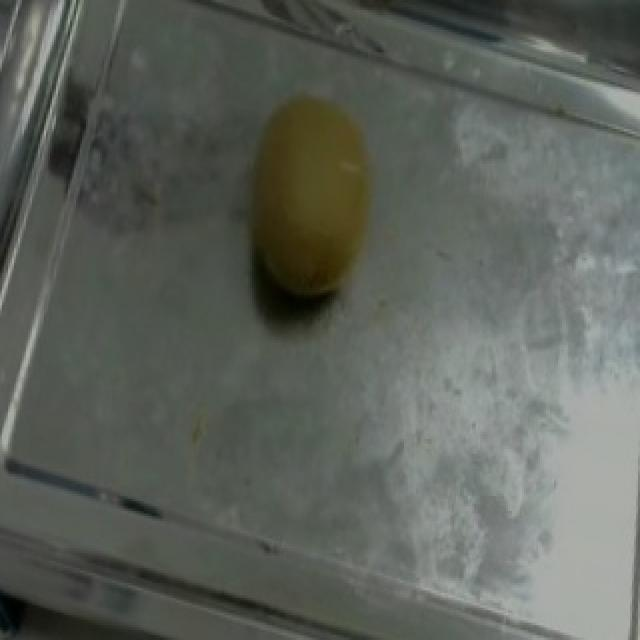Fruit: (210, 72, 416, 340)
